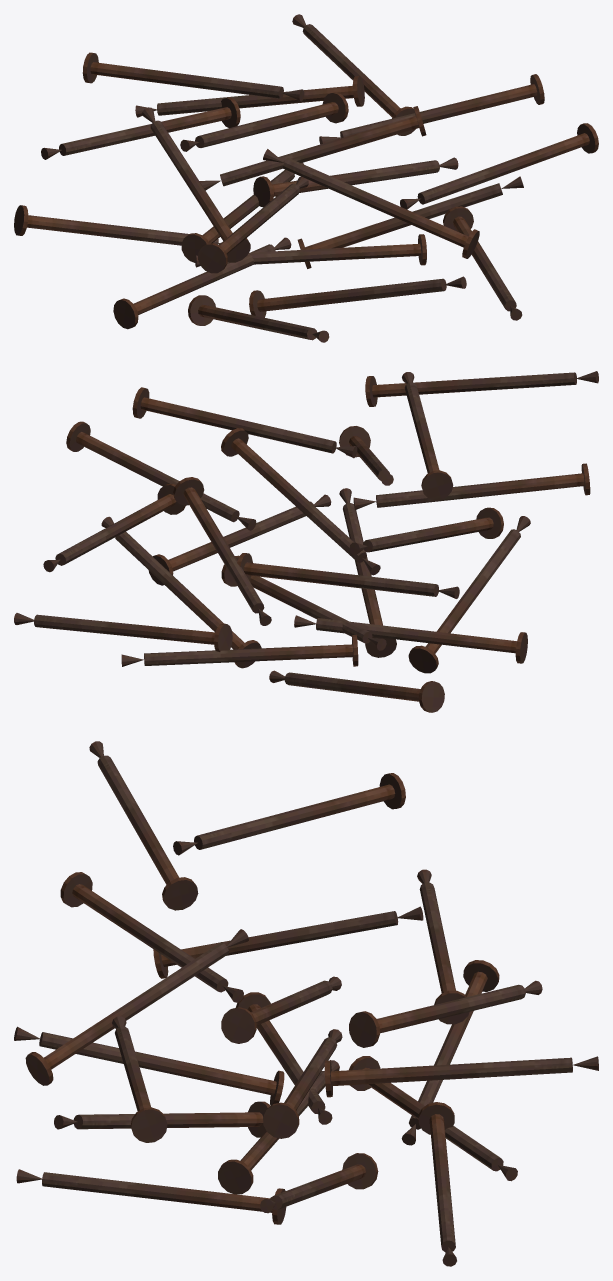
File: EST-PRG-002_anim.glb
3 views of the same model, one above another, from view 1: azimuth 30°, elevation 25°; view 2: azimuth 150°, elevation 25°; view 3: azimuth 270°, elevation 25° (orthographic). The views are drawn at different scales.
Parts seen in each view (by area): view 1: EST-PRG-002_anim19, EST-PRG-002_anim12, EST-PRG-002_anim3, EST-PRG-002_anim15, EST-PRG-002_anim13, EST-PRG-002_anim11, EST-PRG-002_anim18, EST-PRG-002_anim2, EST-PRG-002_anim7, EST-PRG-002_anim14, EST-PRG-002_anim4, EST-PRG-002_anim1 (+8 smaller); view 2: EST-PRG-002_anim5, EST-PRG-002_anim15, EST-PRG-002_anim8, EST-PRG-002_anim18, EST-PRG-002_anim11, EST-PRG-002_anim9, EST-PRG-002_anim1, EST-PRG-002_anim13, EST-PRG-002_anim2, EST-PRG-002_anim14, EST-PRG-002_anim0, EST-PRG-002_anim16 (+8 smaller); view 3: EST-PRG-002_anim17, EST-PRG-002_anim19, EST-PRG-002_anim12, EST-PRG-002_anim6, EST-PRG-002_anim0, EST-PRG-002_anim14, EST-PRG-002_anim9, EST-PRG-002_anim10, EST-PRG-002_anim18, EST-PRG-002_anim8, EST-PRG-002_anim3, EST-PRG-002_anim2 (+8 smaller).
Boxes of the visible parts, x1,y1,x2,y2 form: EST-PRG-002_anim19: (82,52,304,101); EST-PRG-002_anim12: (263,149,479,258); EST-PRG-002_anim3: (249,276,466,317); EST-PRG-002_anim15: (400,123,598,209); EST-PRG-002_anim13: (199,106,426,190); EST-PRG-002_anim11: (41,97,240,159); EST-PRG-002_anim18: (180,92,348,151); EST-PRG-002_anim2: (14,205,220,245); EST-PRG-002_anim7: (297,176,523,268); EST-PRG-002_anim14: (135,76,364,117); EST-PRG-002_anim4: (195,234,426,267); EST-PRG-002_anim1: (113,237,291,329); EST-PRG-002_anim5: (121,634,358,666); EST-PRG-002_anim15: (132,387,357,458); EST-PRG-002_anim8: (14,613,232,651); EST-PRG-002_anim18: (365,371,598,406); EST-PRG-002_anim11: (237,553,459,598); EST-PRG-002_anim9: (353,463,590,509); EST-PRG-002_anim1: (294,615,527,663); EST-PRG-002_anim13: (221,428,380,575); EST-PRG-002_anim2: (269,670,444,712); EST-PRG-002_anim14: (173,477,271,625); EST-PRG-002_anim0: (408,516,530,673); EST-PRG-002_anim16: (66,421,256,530); EST-PRG-002_anim17: (324,1056,598,1097); EST-PRG-002_anim19: (173,773,405,855); EST-PRG-002_anim12: (25,929,248,1085); EST-PRG-002_anim6: (16,1169,286,1224); EST-PRG-002_anim0: (14,1026,284,1105); EST-PRG-002_anim14: (349,980,542,1047); EST-PRG-002_anim9: (60,872,243,1002); EST-PRG-002_anim10: (153,906,423,978); EST-PRG-002_anim18: (89,741,198,910); EST-PRG-002_anim8: (418,1102,456,1266); EST-PRG-002_anim3: (54,1101,270,1137); EST-PRG-002_anim2: (401,960,499,1145).
Bounding box in the file's own units: 0.1383 × 0.0793 × 0.1341.
Materials: 1 (1 with a texture image).
